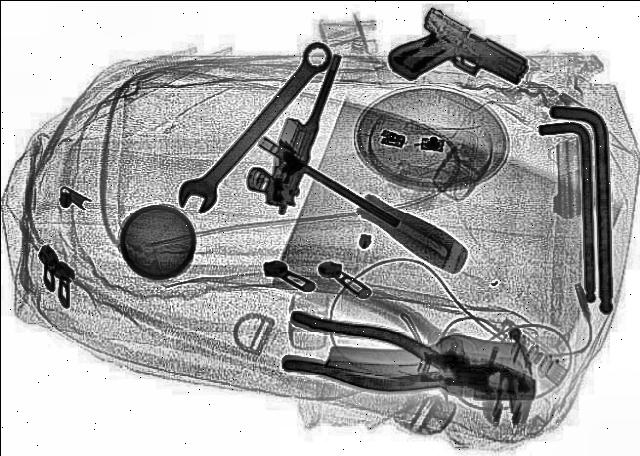Gun: (368, 5, 546, 118), (241, 47, 345, 210)
Pliers: (269, 312, 553, 420)
Wrench: (168, 37, 348, 216)
